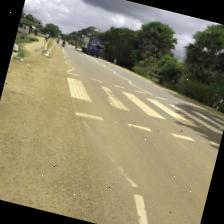crossing: (52, 63, 224, 153)
